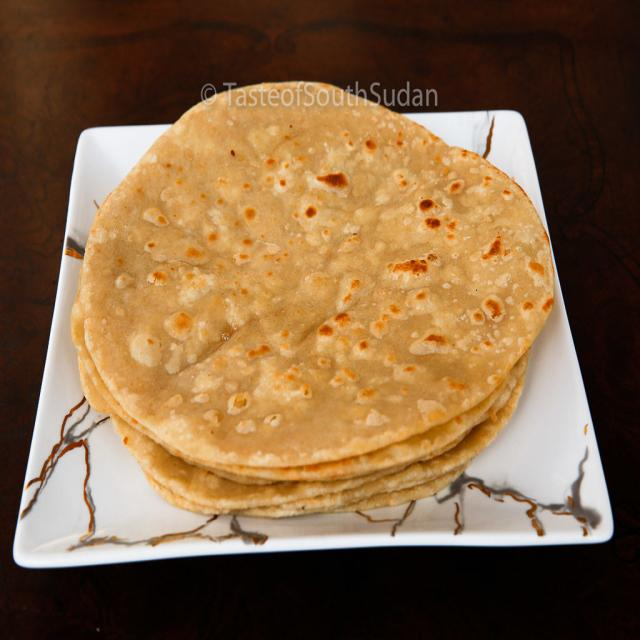roti: (76, 79, 559, 518)
